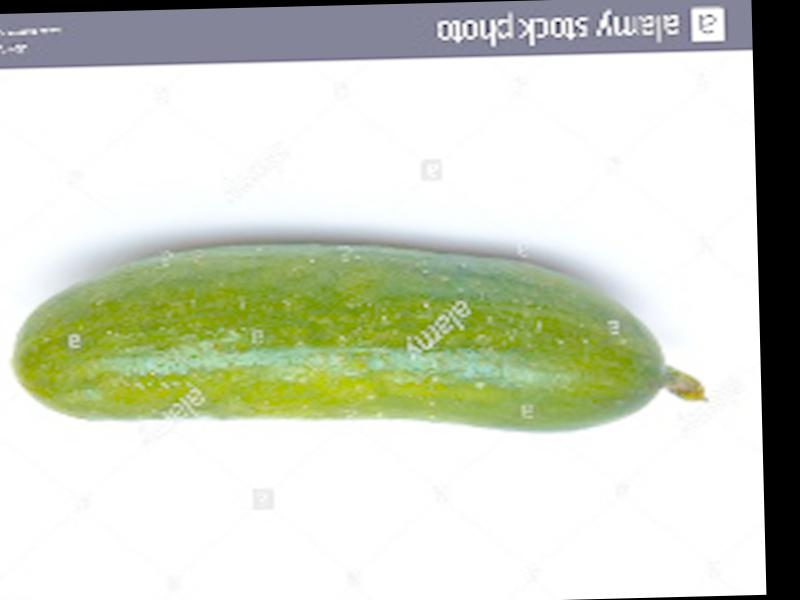Cucumber: (6, 233, 708, 446)
